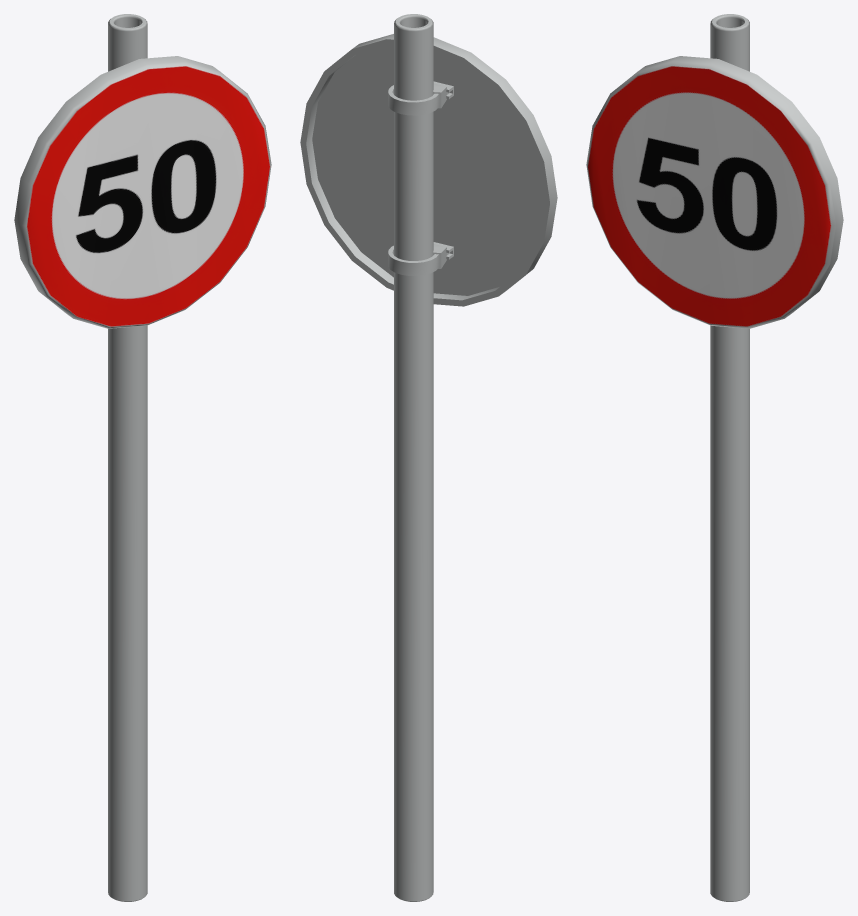
The model's file is SM_SpeedSign50.fbx.
The picture shows the model from 3 angles, left to right: view 1: azimuth 30°, elevation 25°; view 2: azimuth 150°, elevation 25°; view 3: azimuth 330°, elevation 25°; orthographic projection.
Parts seen in each view (by area): view 1: yuvarlak_azami50_0; view 2: yuvarlak_azami50_0; view 3: yuvarlak_azami50_0.
Part boxes in pixels (x1,y1,x2,y2): yuvarlak_azami50_0: (14, 14, 271, 901); yuvarlak_azami50_0: (300, 14, 557, 901); yuvarlak_azami50_0: (586, 14, 843, 901).
Bounding box in the file's own units: 131 × 436 × 30.47.
Materials: 1 (1 with a texture image).
